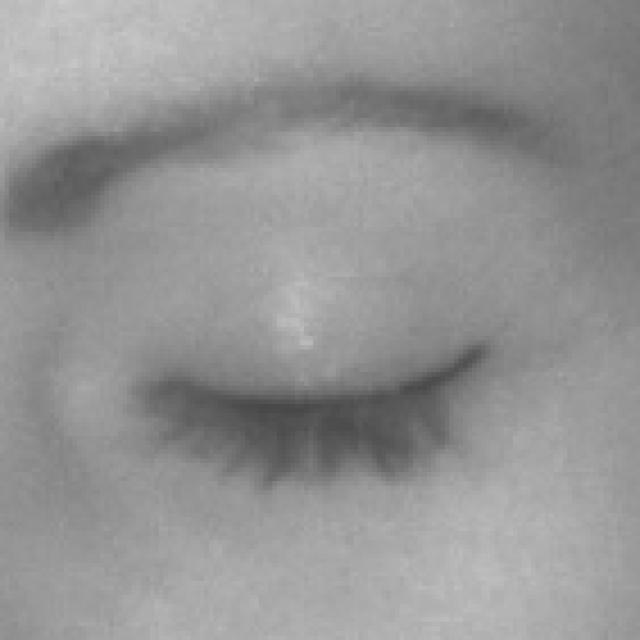close: (0, 16, 640, 579)
